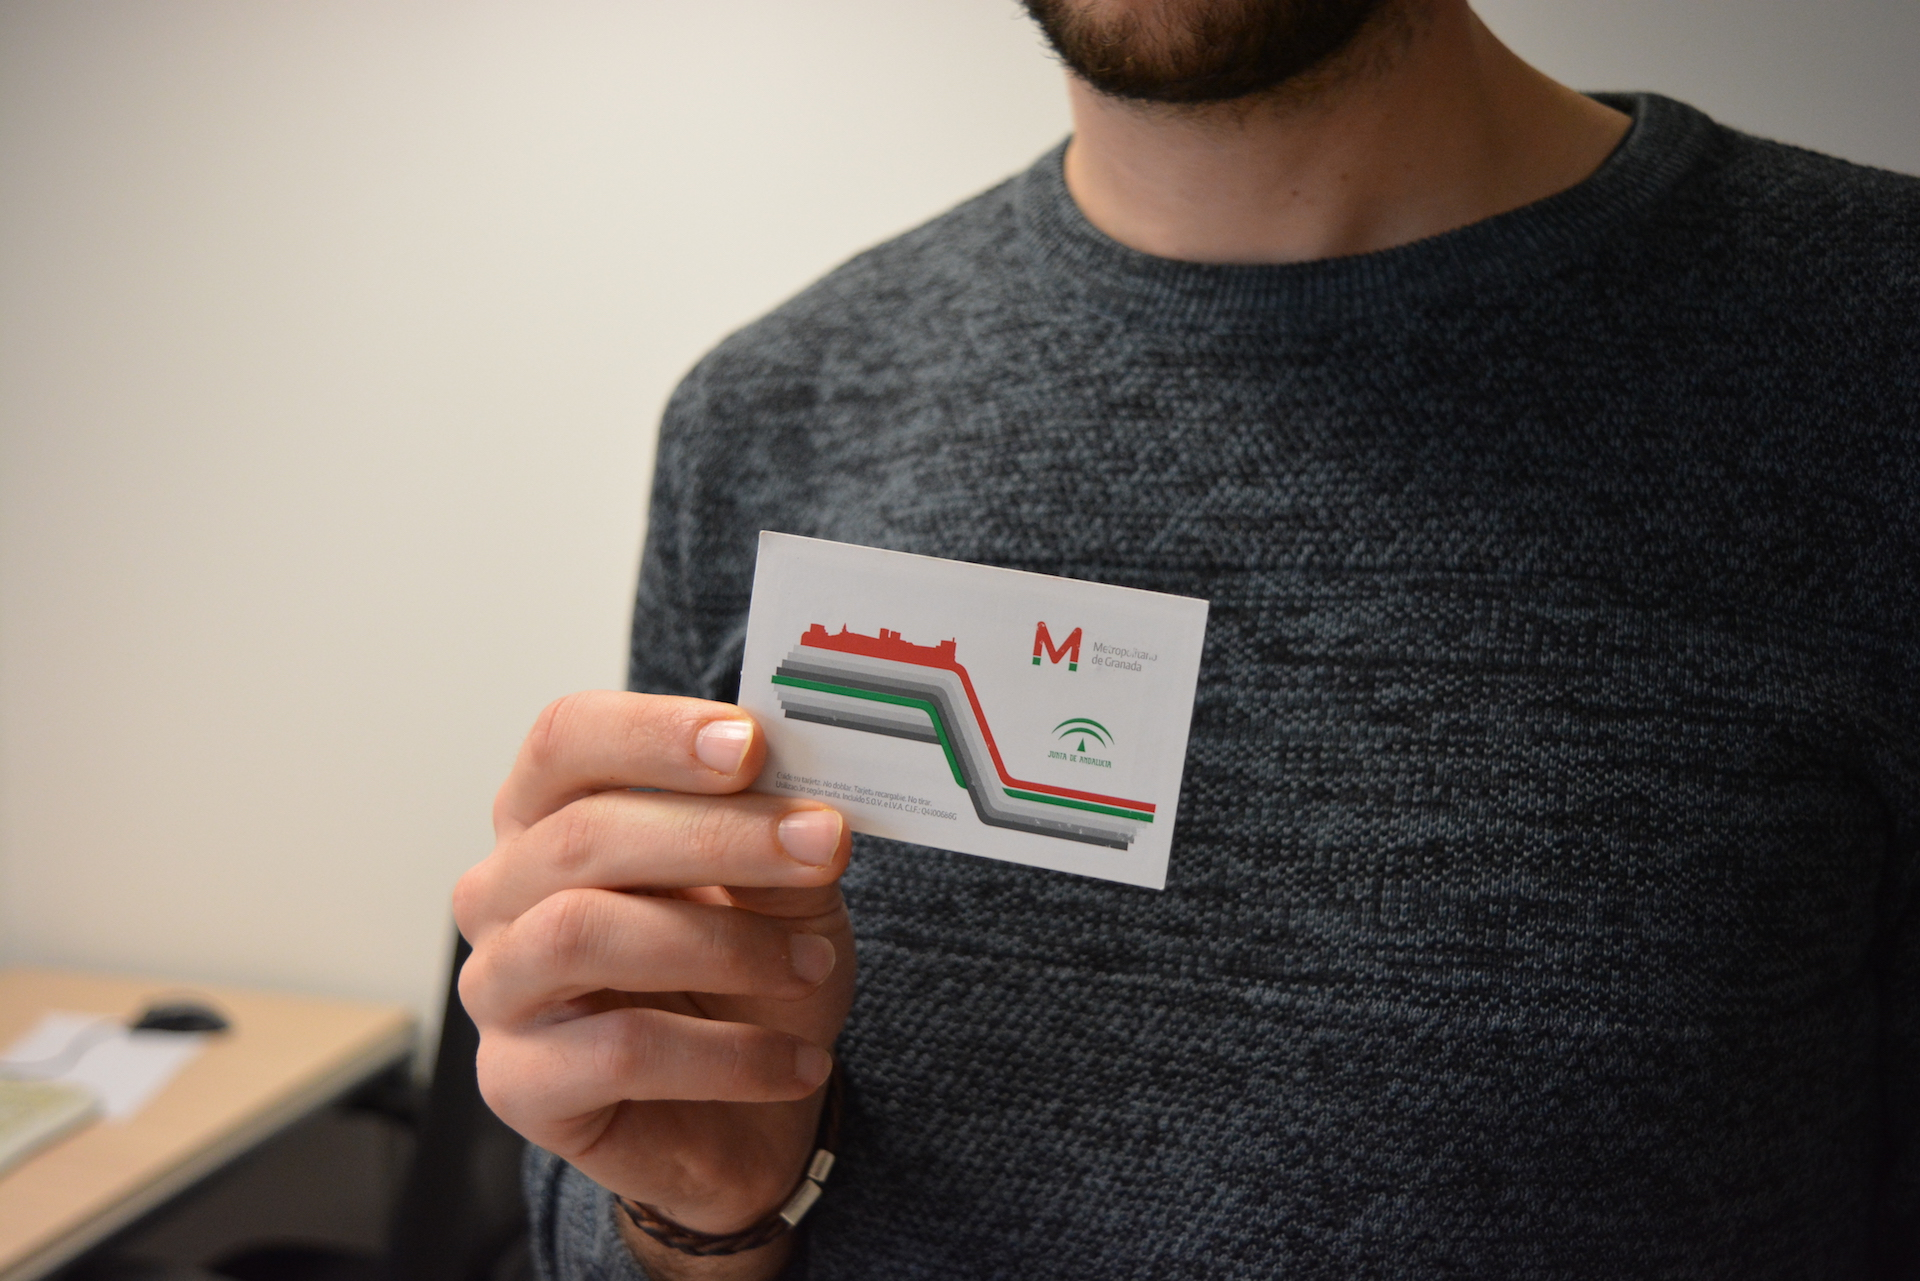tarjeta: (732, 528, 1214, 892)
